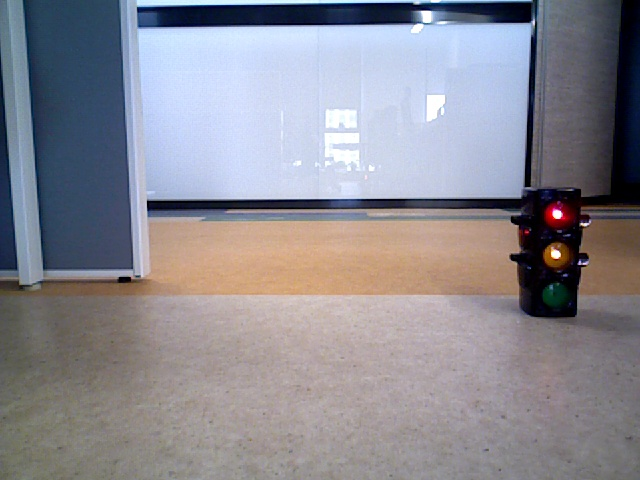red: (520, 190, 572, 314)
